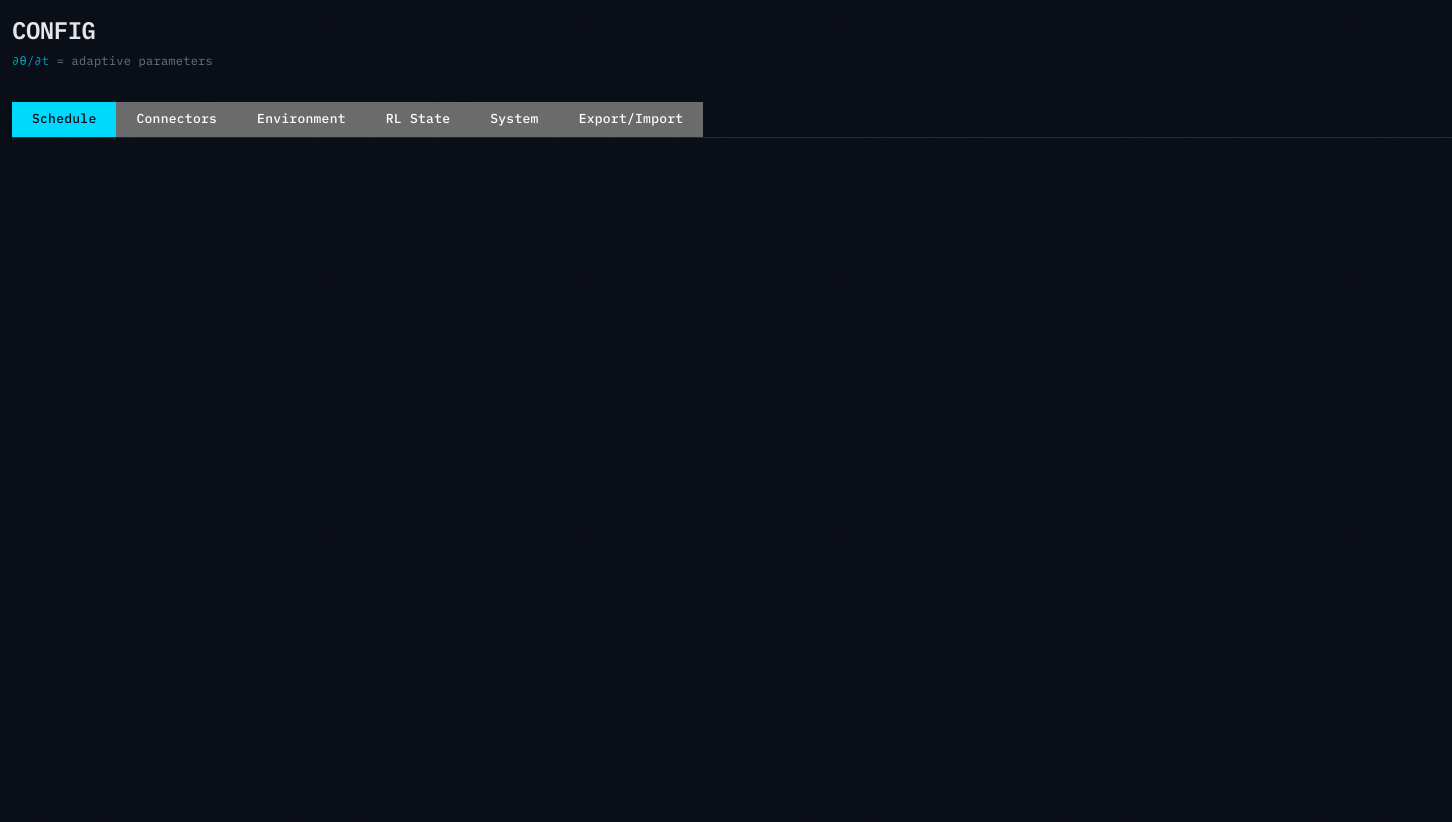
Scenario: Config calibration states (Phase 4, L6/L12 — mockup 03) › L13: export copy no longer implies a watchlist UI
The image size is (1452, 822).
Click the button "Export/Import": click(631, 120) [559, 102, 703, 137]
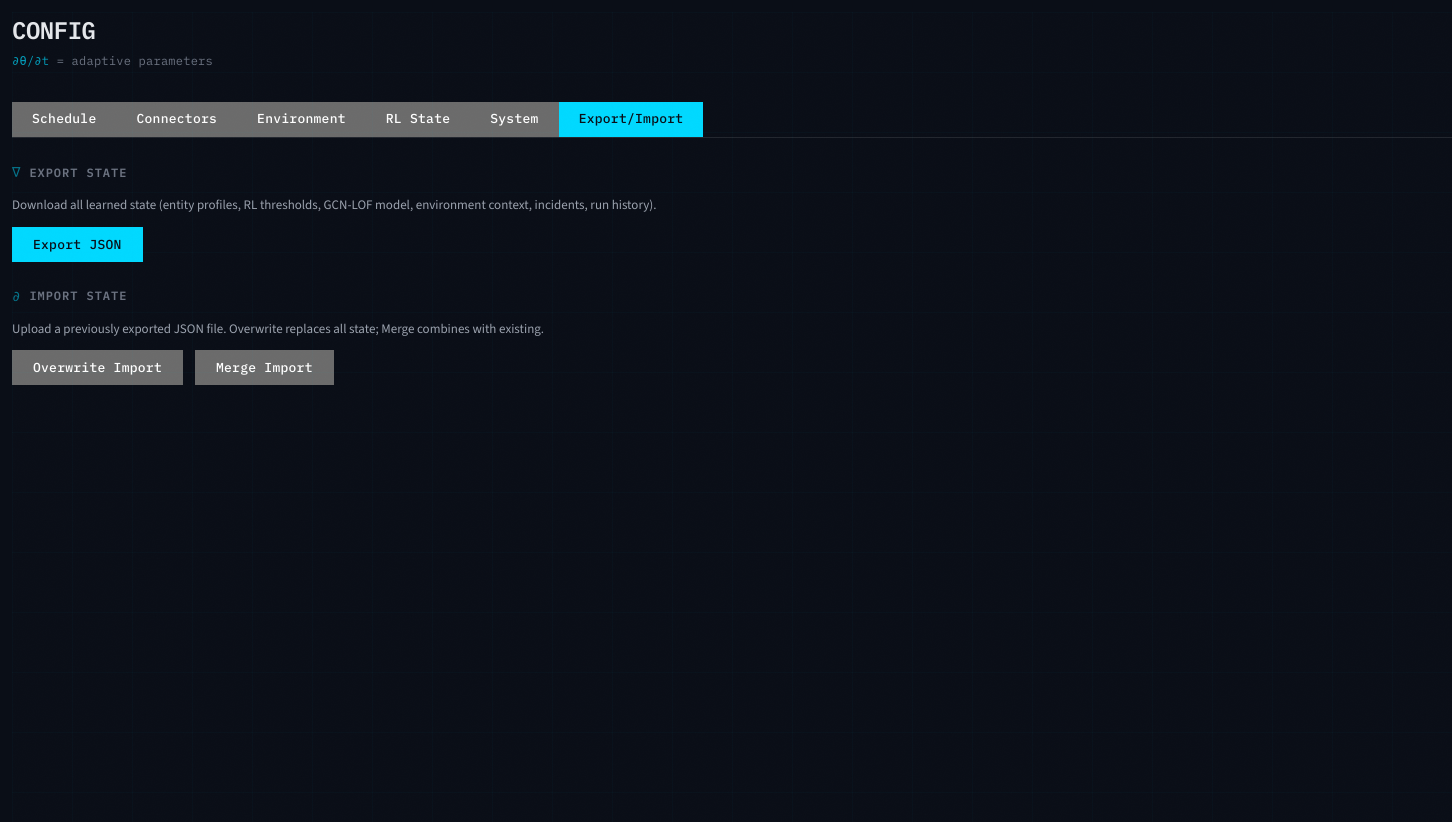
expect the text "EXPORT STATE" is shown: met, box [29, 164, 127, 180]
